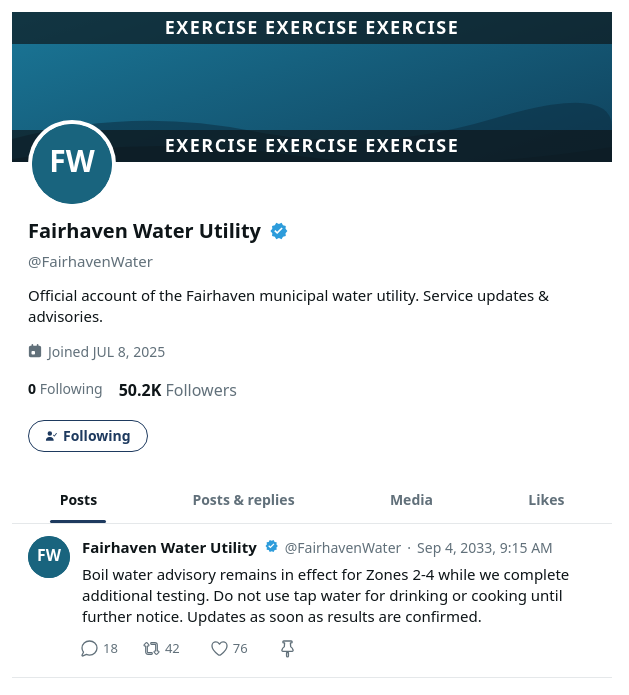
Profile — tabs (SOC-050, COR-001, NFR-001) › shows an honest "Likes are private" state on someone else’s Likes tab (never fabricated entries)
The image size is (629, 695).
Check: the heading "Fairhaven Water Utility" is shown, box [28,216,261,246]
Click the tab "Likes": (546, 500) [481,476,612,523]
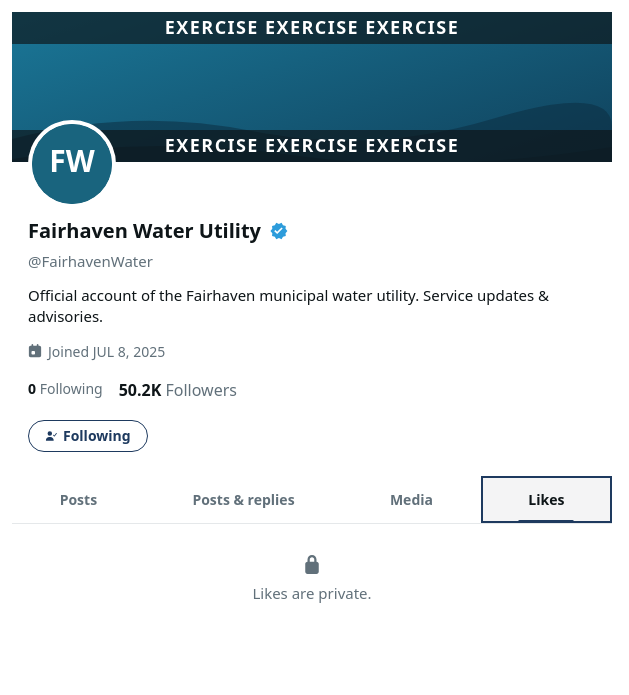
Check: the text "Likes are private." is shown, box [252,583,372,603]
Check: the element with test id "post-card" is gone
